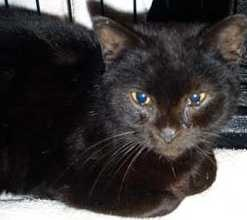Cat: (0, 9, 213, 216)
